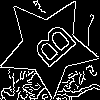B: (23, 21, 78, 76)
